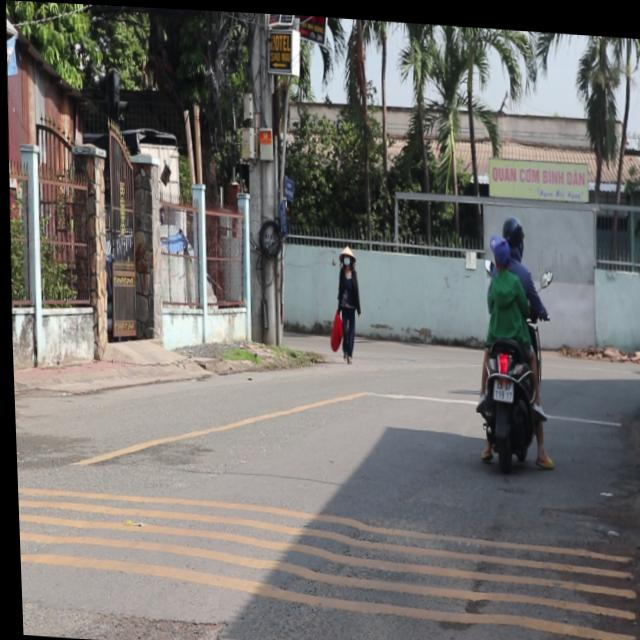helmet: (498, 208, 523, 253)
licenseplate: (461, 207, 551, 470)
motorcyclist: (486, 229, 508, 264)
nohelmet: (489, 374, 509, 395)
